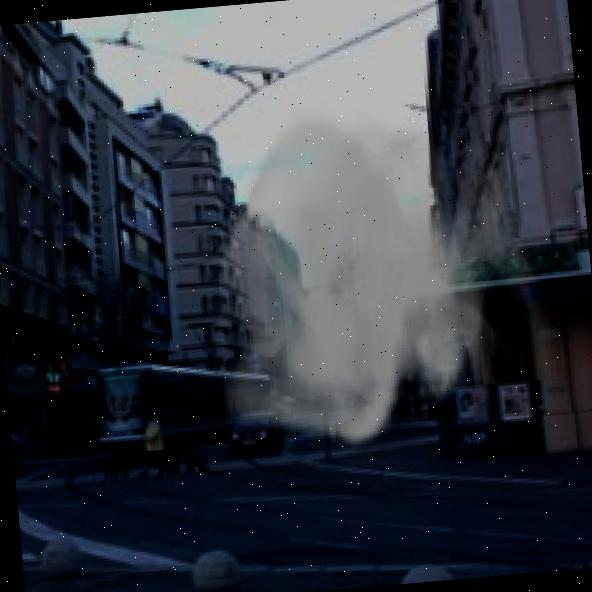smoke: (187, 84, 565, 462)
